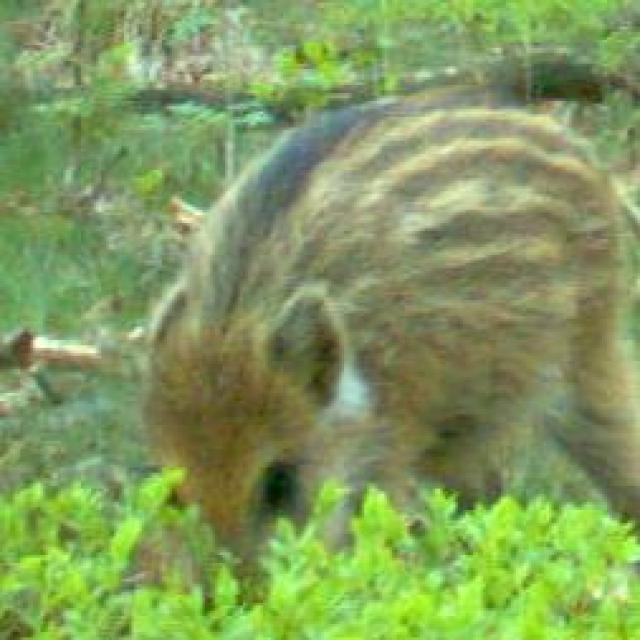pig: (141, 79, 640, 561)
